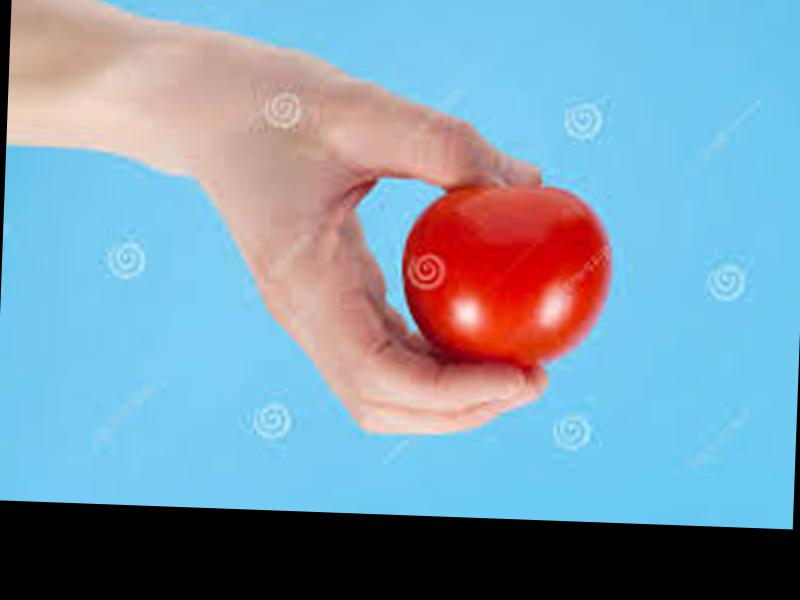Tomato: (400, 181, 613, 374)
